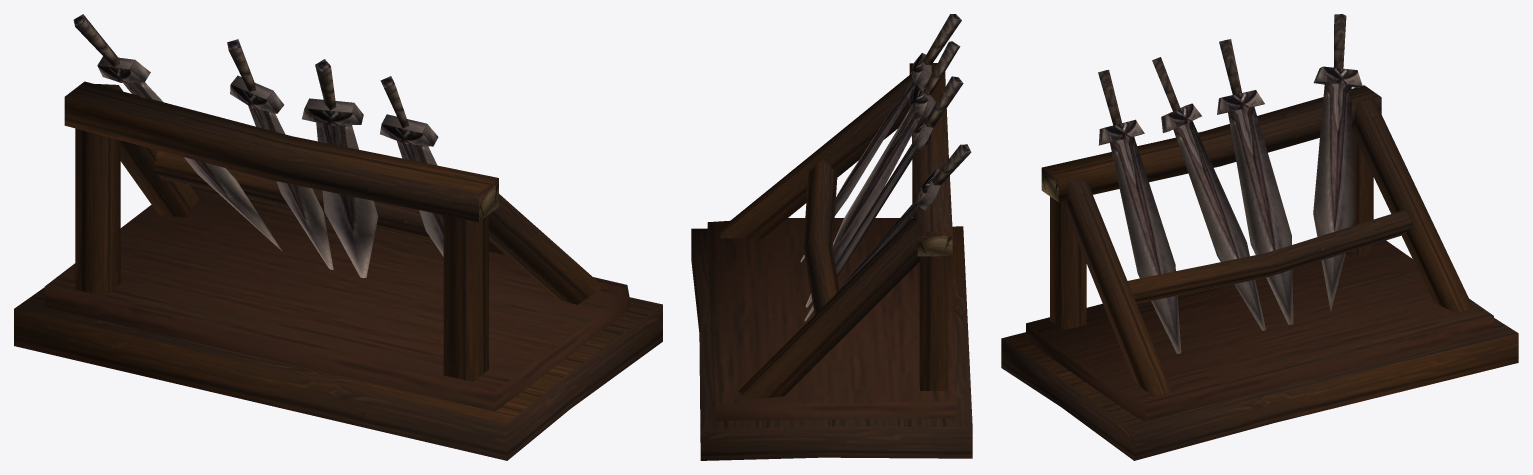
The model's file is daliang_field_a_s05c.fbx.
3 views of the same model, side by side, from view 1: azimuth 30°, elevation 25°; view 2: azimuth 150°, elevation 25°; view 3: azimuth 270°, elevation 25° (orthographic). The views are drawn at different scales.
Parts seen in each view (by area): view 1: daliang_field_a_s05c; view 2: daliang_field_a_s05c; view 3: daliang_field_a_s05c.
Part boxes in pixels (x1,y1,x2,y2): daliang_field_a_s05c: (14, 14, 662, 460); daliang_field_a_s05c: (691, 14, 972, 460); daliang_field_a_s05c: (1001, 14, 1518, 460).
Size of the model in its own units: 225 by 153 by 257.
